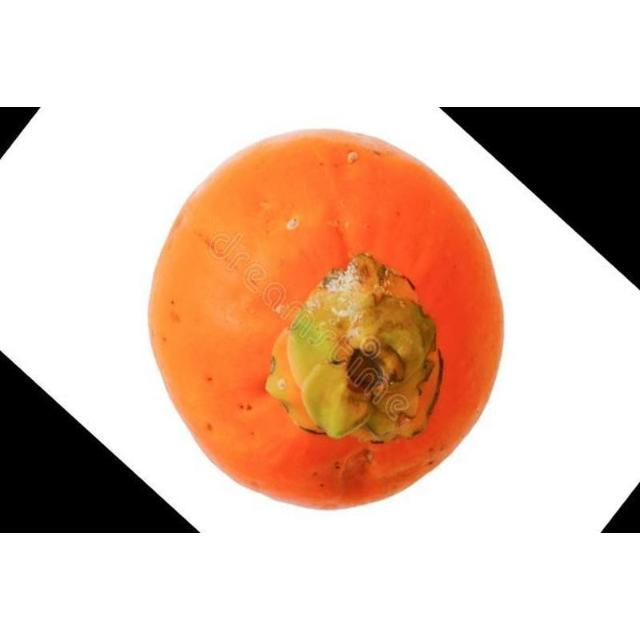good: (140, 129, 507, 514)
